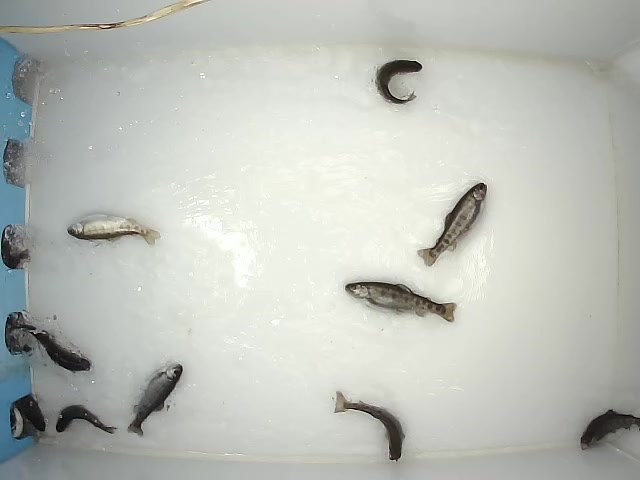fish: (416, 181, 488, 268), (6, 311, 92, 373), (333, 390, 406, 463), (344, 280, 457, 324), (126, 362, 183, 439), (64, 211, 162, 248), (579, 408, 640, 452), (373, 58, 424, 106), (55, 403, 119, 435)
